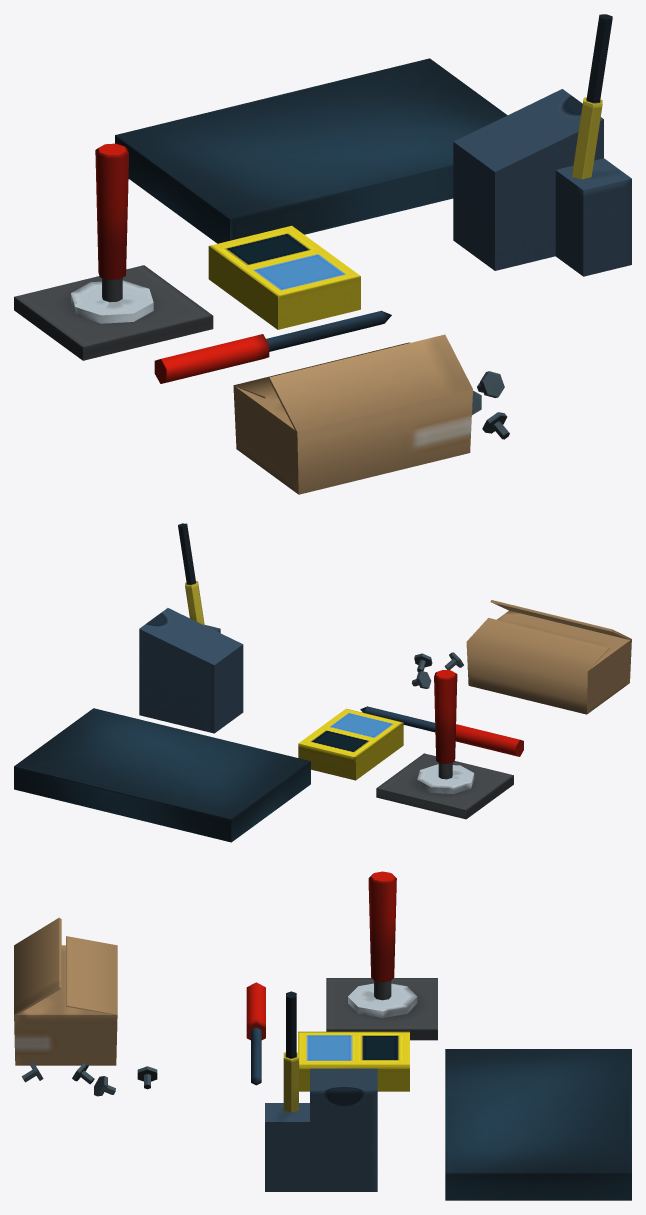
File: Tx_prop_tableprops_29.fbx
3 views of the same model, one above another, from view 1: azimuth 30°, elevation 25°; view 2: azimuth 150°, elevation 25°; view 3: azimuth 270°, elevation 25° (orthographic). The views are drawn at different scales.
Visible parts, largest first — view 1: Tx_prop_tableprops__9; view 2: Tx_prop_tableprops__9; view 3: Tx_prop_tableprops__9.
Part boxes in pixels (x1,y1,x2,y2): Tx_prop_tableprops__9: (14, 14, 631, 494); Tx_prop_tableprops__9: (14, 523, 631, 842); Tx_prop_tableprops__9: (14, 871, 631, 1200).
Size of the model in its own units: 4.97 by 2.12 by 6.13.
2 materials, 2 textured.
